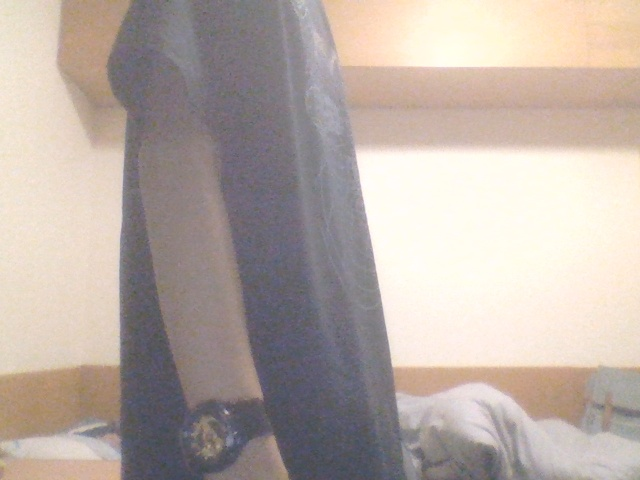human: (106, 2, 404, 480)
